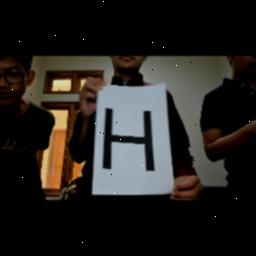h: (100, 105, 160, 175)
